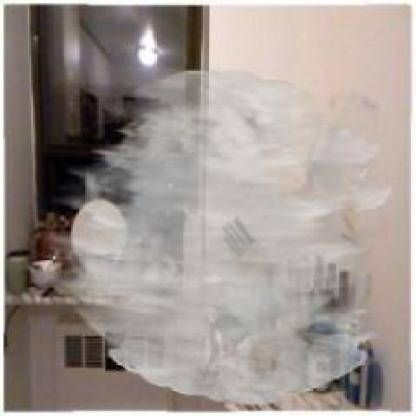Smoke: (44, 68, 394, 405)
